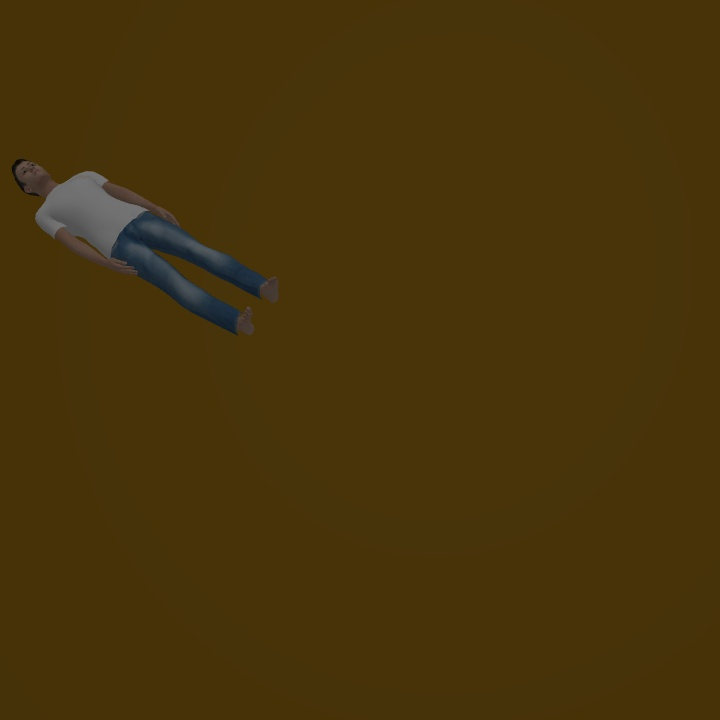victim: (13, 159, 281, 337)
